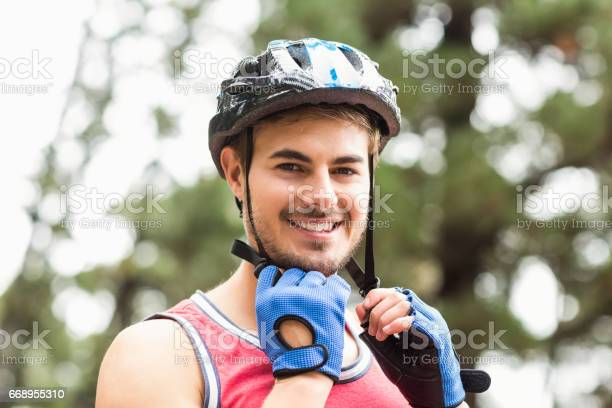helmet: (207, 37, 403, 276)
